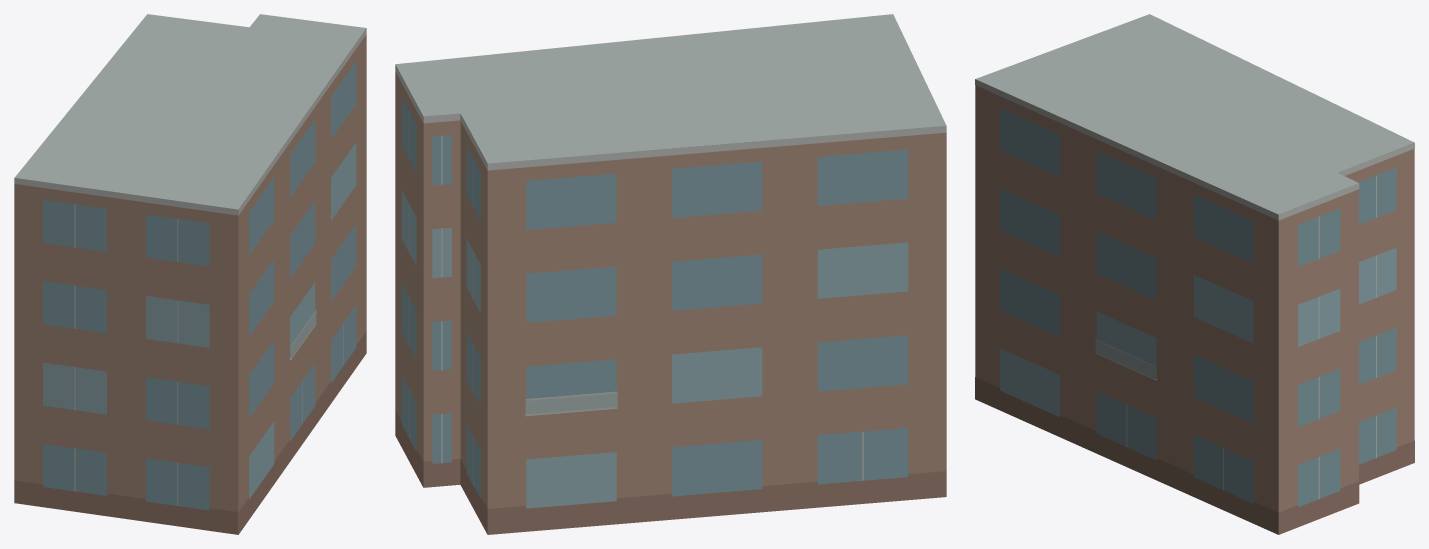
The model's file is survey-upis-32736813.glb.
The picture shows the model from 3 angles, left to right: view 1: azimuth 30°, elevation 25°; view 2: azimuth 150°, elevation 25°; view 3: azimuth 270°, elevation 25°; orthographic projection. The views are drawn at different scales.
Parts seen in each view (by area): view 1: survey-upis-32736813.tmp; view 2: survey-upis-32736813.tmp; view 3: survey-upis-32736813.tmp.
Part boxes in pixels (x1,y1,x2,y2): survey-upis-32736813.tmp: [14, 14, 366, 534]; survey-upis-32736813.tmp: [395, 14, 946, 534]; survey-upis-32736813.tmp: [975, 14, 1414, 534].
Bounding box in the file's own units: 17.61 × 13.1 × 16.3.
